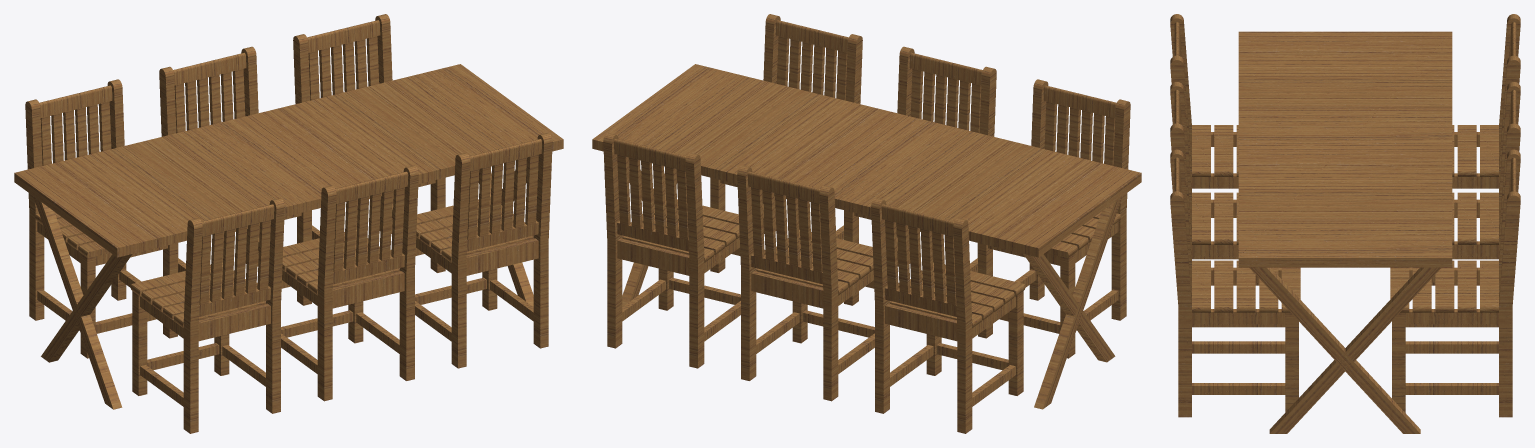
File: dining_wooden_set_2.glb
3 renders of one model, left to right at view 1: azimuth 30°, elevation 25°; view 2: azimuth 150°, elevation 25°; view 3: azimuth 270°, elevation 25°, orthographic. The views are drawn at different scales.
Parts seen in each view (by area): view 1: Mesh1__Wood___Rustic____11_0, Mesh25__Wood___Rustic____11_0, Mesh45__Wood___Rustic____11_0, Mesh65__Wood___Rustic____11_0, Mesh5__Wood___Rustic____11_0, Mesh64__Wood___Rustic____11_0, Mesh24__Wood___Rustic____11_0, Mesh44__Wood___Rustic____11_0, Mesh124__Wood___Rustic____11_0, Mesh26__Wood___Rustic____11_0, Mesh4__Wood___Rustic____11_0, Mesh46__Wood___Rustic____11_0 (+68 smaller); view 2: Mesh1__Wood___Rustic____11_0, Mesh84__Wood___Rustic____11_0, Mesh124__Wood___Rustic____11_0, Mesh104__Wood___Rustic____11_0, Mesh4__Wood___Rustic____11_0, Mesh105__Wood___Rustic____11_0, Mesh85__Wood___Rustic____11_0, Mesh125__Wood___Rustic____11_0, Mesh45__Wood___Rustic____11_0, Mesh106__Wood___Rustic____11_0, Mesh5__Wood___Rustic____11_0, Mesh86__Wood___Rustic____11_0 (+68 smaller); view 3: Mesh1__Wood___Rustic____11_0, Mesh46__Wood___Rustic____11_0, Mesh86__Wood___Rustic____11_0, Mesh2__Wood___Rustic____11_0, Mesh3__Wood___Rustic____11_0, Mesh64__Wood___Rustic____11_0, Mesh105__Wood___Rustic____11_0, Mesh6__Wood___Rustic____11_0, Mesh66__Wood___Rustic____11_0, Mesh26__Wood___Rustic____11_0, Mesh106__Wood___Rustic____11_0, Mesh91__Wood___Rustic____11_0 (+23 smaller).
Boxes of the visible parts, x1=… form: Mesh1__Wood___Rustic____11_0: x1=14, y1=64, x2=563, y2=257; Mesh25__Wood___Rustic____11_0: x1=317, y1=185, x2=336, y2=401; Mesh45__Wood___Rustic____11_0: x1=183, y1=218, x2=202, y2=433; Mesh65__Wood___Rustic____11_0: x1=451, y1=153, x2=470, y2=368; Mesh5__Wood___Rustic____11_0: x1=33, y1=196, x2=122, y2=409; Mesh64__Wood___Rustic____11_0: x1=533, y1=133, x2=552, y2=348; Mesh24__Wood___Rustic____11_0: x1=399, y1=165, x2=418, y2=380; Mesh44__Wood___Rustic____11_0: x1=266, y1=198, x2=284, y2=413; Mesh124__Wood___Rustic____11_0: x1=25, y1=99, x2=44, y2=320; Mesh26__Wood___Rustic____11_0: x1=130, y1=262, x2=265, y2=327; Mesh4__Wood___Rustic____11_0: x1=41, y1=254, x2=132, y2=362; Mesh46__Wood___Rustic____11_0: x1=416, y1=197, x2=533, y2=262; Mesh1__Wood___Rustic____11_0: x1=592, y1=64, x2=1141, y2=257; Mesh84__Wood___Rustic____11_0: x1=819, y1=185, x2=838, y2=401; Mesh124__Wood___Rustic____11_0: x1=953, y1=218, x2=972, y2=433; Mesh104__Wood___Rustic____11_0: x1=685, y1=153, x2=704, y2=368; Mesh4__Wood___Rustic____11_0: x1=1034, y1=196, x2=1122, y2=409; Mesh105__Wood___Rustic____11_0: x1=603, y1=133, x2=622, y2=348; Mesh85__Wood___Rustic____11_0: x1=737, y1=165, x2=756, y2=380; Mesh125__Wood___Rustic____11_0: x1=871, y1=198, x2=889, y2=413; Mesh45__Wood___Rustic____11_0: x1=1111, y1=99, x2=1130, y2=320; Mesh106__Wood___Rustic____11_0: x1=890, y1=262, x2=1025, y2=327; Mesh5__Wood___Rustic____11_0: x1=1023, y1=254, x2=1115, y2=362; Mesh86__Wood___Rustic____11_0: x1=622, y1=197, x2=739, y2=262; Mesh1__Wood___Rustic____11_0: x1=1238, y1=31, x2=1452, y2=267; Mesh46__Wood___Rustic____11_0: x1=1192, y1=260, x2=1300, y2=312; Mesh86__Wood___Rustic____11_0: x1=1390, y1=260, x2=1498, y2=312; Mesh2__Wood___Rustic____11_0: x1=1249, y1=267, x2=1420, y2=433; Mesh3__Wood___Rustic____11_0: x1=1269, y1=267, x2=1441, y2=433; Mesh64__Wood___Rustic____11_0: x1=1170, y1=191, x2=1191, y2=417; Mesh105__Wood___Rustic____11_0: x1=1499, y1=191, x2=1520, y2=417; Mesh6__Wood___Rustic____11_0: x1=1192, y1=192, x2=1238, y2=244; Mesh66__Wood___Rustic____11_0: x1=1452, y1=192, x2=1498, y2=244; Mesh26__Wood___Rustic____11_0: x1=1192, y1=125, x2=1238, y2=176; Mesh106__Wood___Rustic____11_0: x1=1452, y1=125, x2=1498, y2=176; Mesh91__Wood___Rustic____11_0: x1=1392, y1=312, x2=1405, y2=412.
Bounding box in the file's own units: 0.02 × 0.00915 × 0.0131.
1 material, 1 textured.
